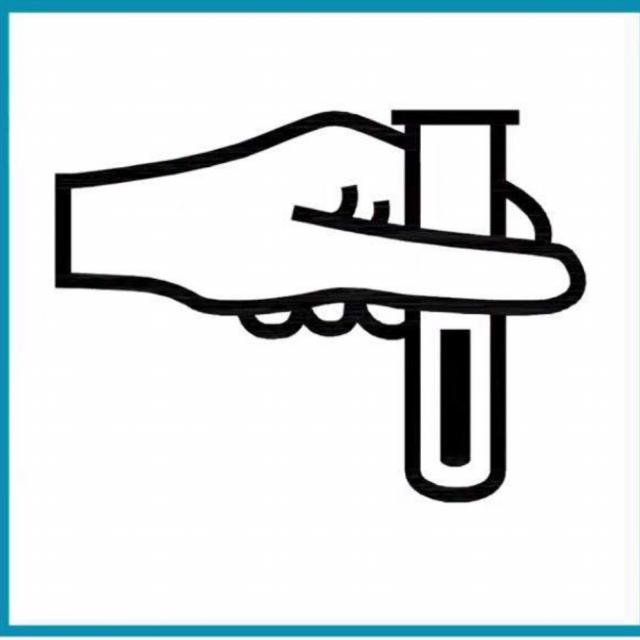Sampling site: (54, 105, 592, 506)
